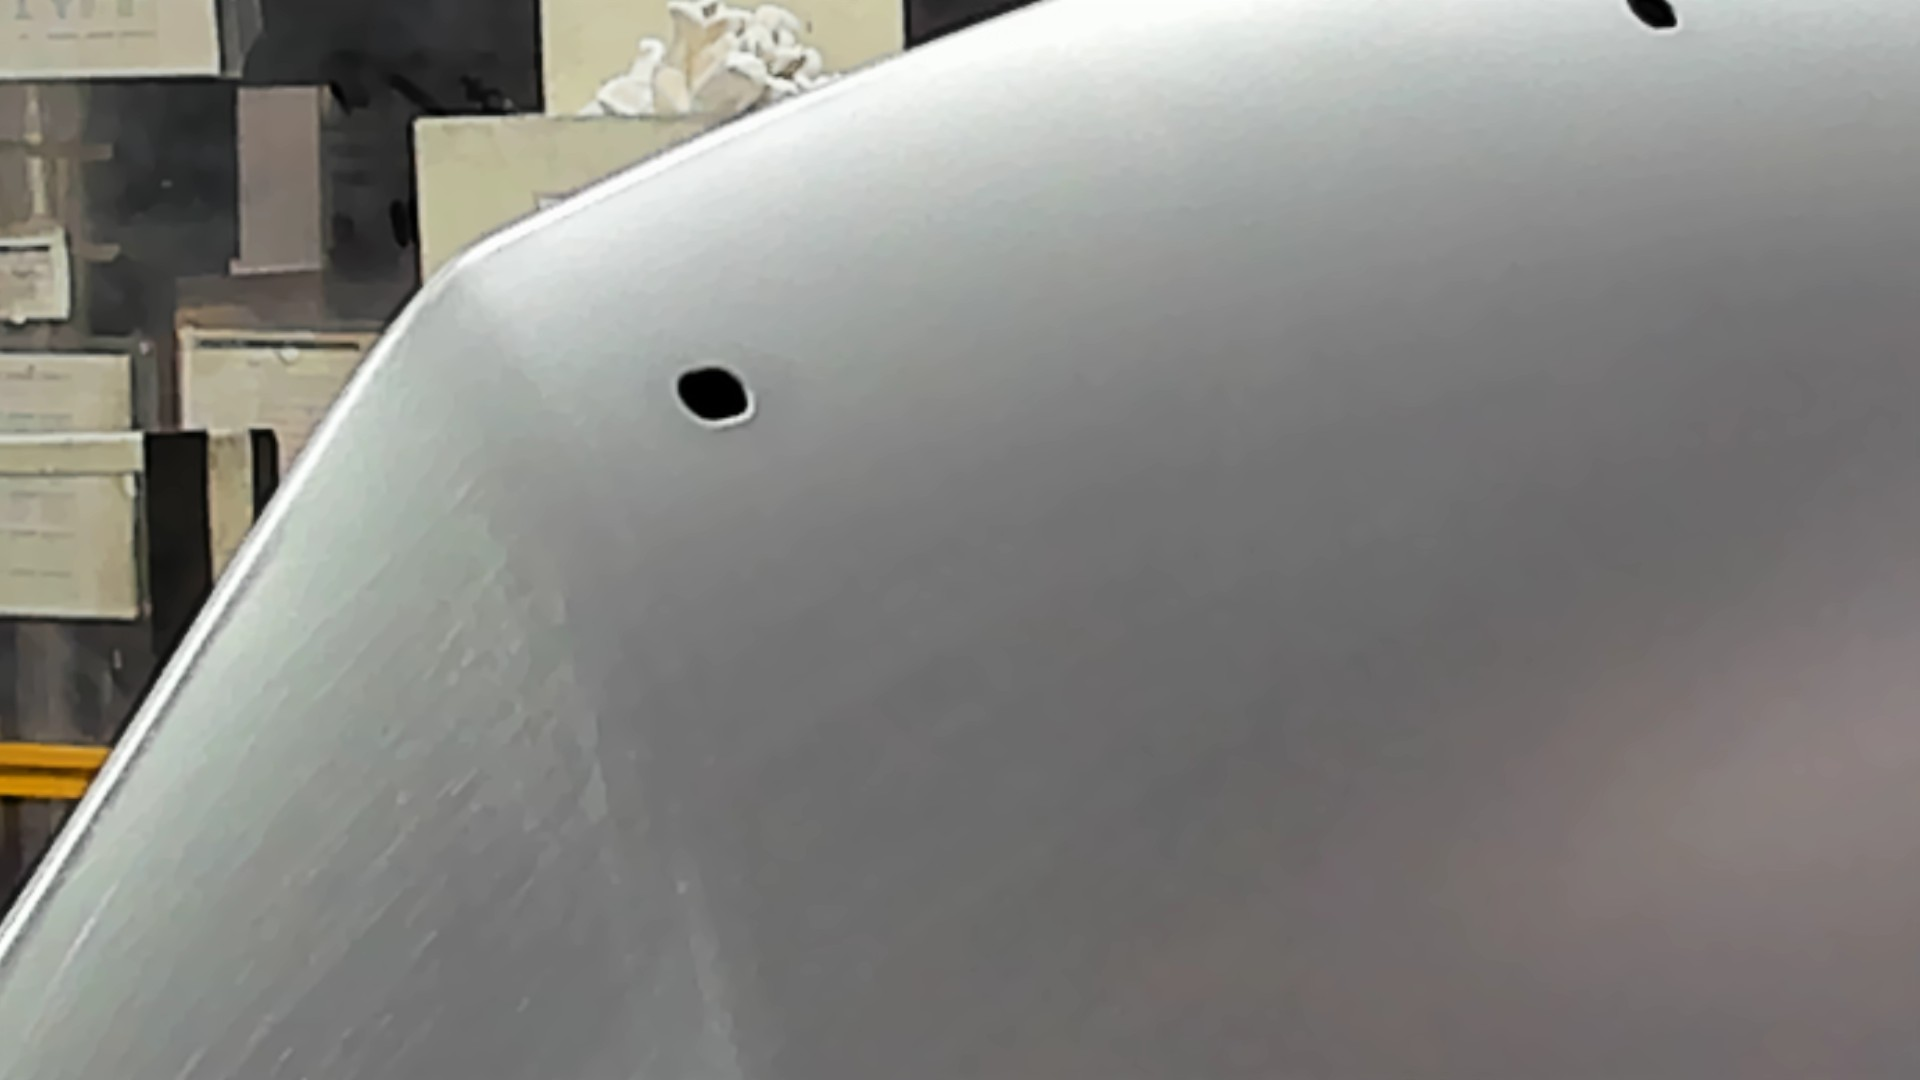amorfo: (669, 359, 765, 435), (1615, 1, 1687, 42)
capo: (886, 88, 1920, 1080)
